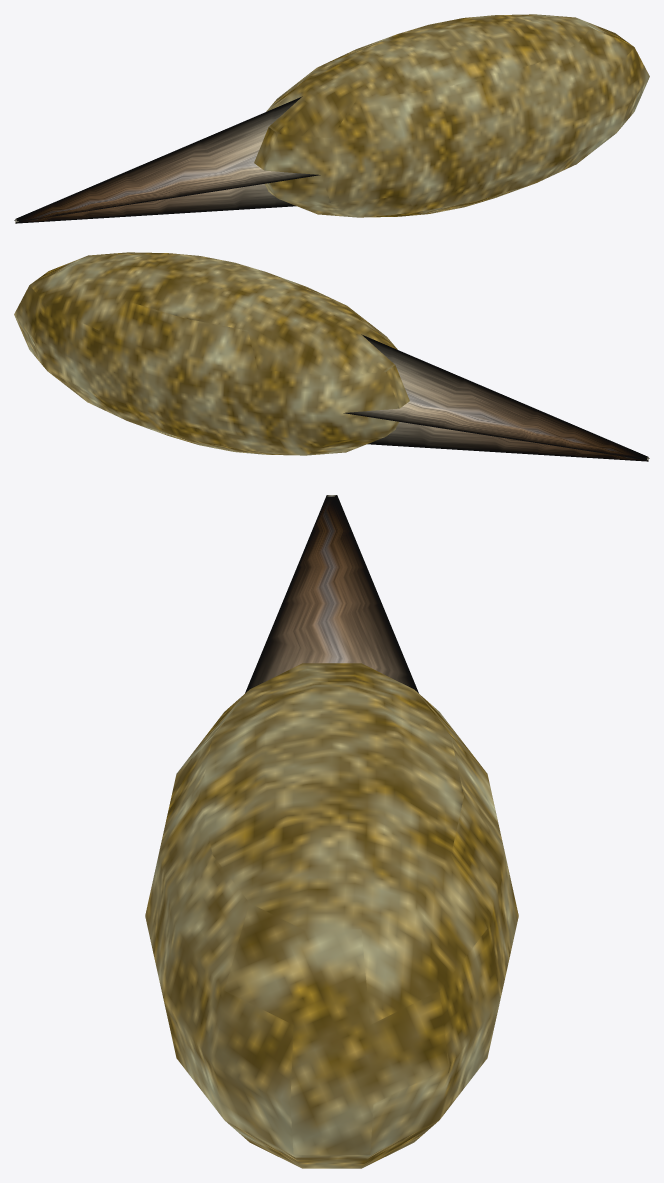
Rendered from force_shot_lv2.glb.
3 renders of one model, top to bottom at view 1: azimuth 30°, elevation 25°; view 2: azimuth 150°, elevation 25°; view 3: azimuth 270°, elevation 25°, orthographic. The views are drawn at different scales.
Visible parts, largest first — view 1: f2_shell, f2_trail; view 2: f2_shell, f2_trail; view 3: f2_shell, f2_trail.
Boxes of the visible parts, box(x1,y1,x2,y2) form: f2_shell: box(254, 14, 649, 217); f2_trail: box(14, 96, 320, 223); f2_shell: box(14, 252, 409, 455); f2_trail: box(343, 334, 649, 461); f2_shell: box(145, 663, 518, 1168); f2_trail: box(245, 495, 418, 693).
Bounding box in the file's own units: 6.94 × 1.8 × 1.8.
Materials: 5 (5 with a texture image).
